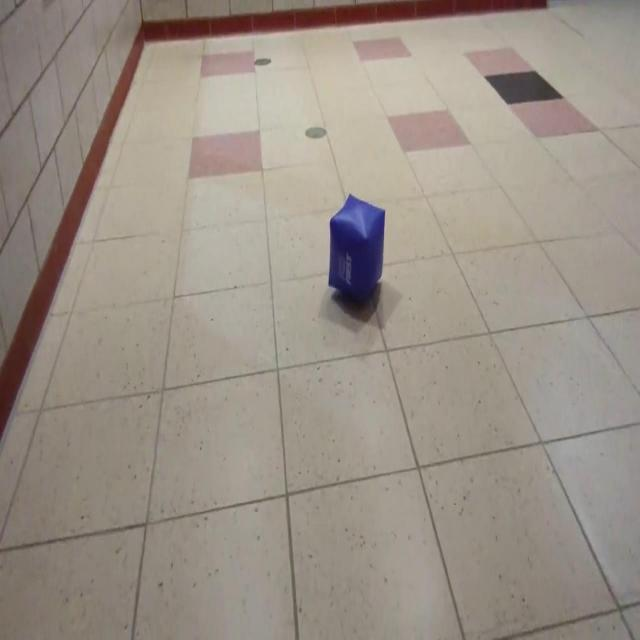frc_cube: (328, 196, 385, 306)
